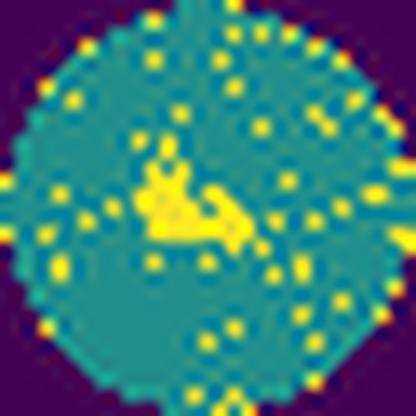Center: (132, 161, 255, 253)
